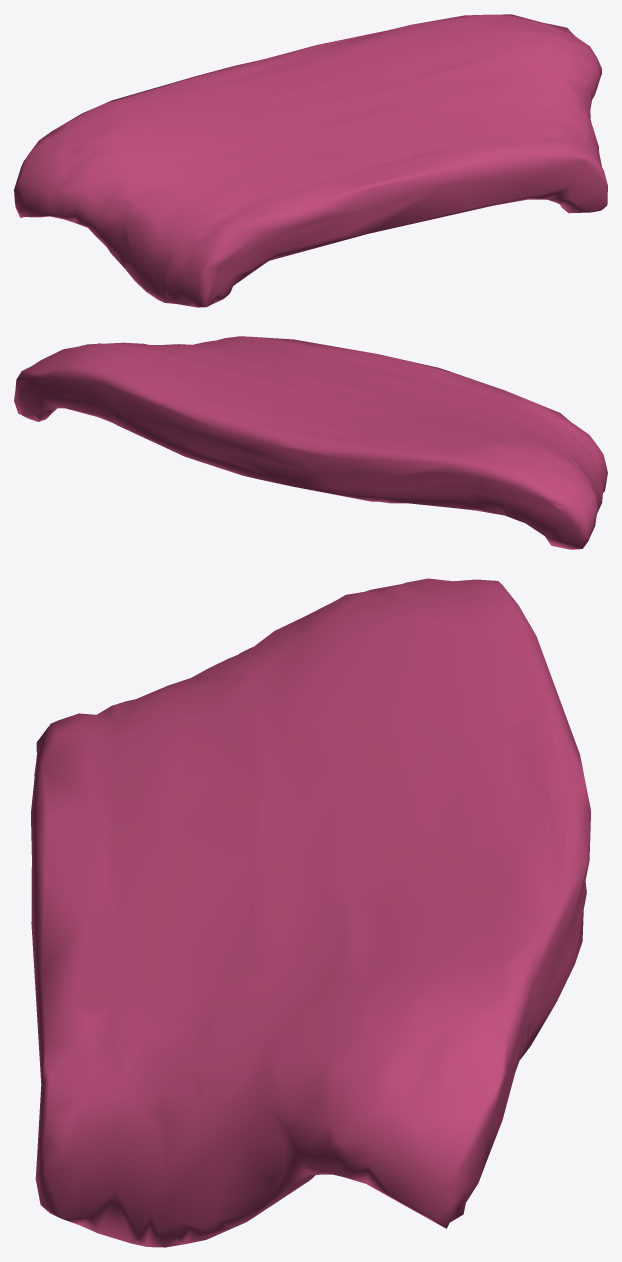
The picture shows the model from 3 angles, top to bottom: view 1: azimuth 30°, elevation 25°; view 2: azimuth 150°, elevation 25°; view 3: azimuth 270°, elevation 25°; orthographic projection. The views are drawn at different scales.
Visible parts, largest first — view 1: 杓横肌; view 2: 杓横肌; view 3: 杓横肌.
Boxes of the visible parts, x1,y1,x2,y2 form: 杓横肌: [14, 14, 607, 307]; 杓横肌: [14, 336, 607, 549]; 杓横肌: [31, 578, 590, 1247].
Bounding box in the file's own units: 0.0216 × 0.0045 × 0.00917.
